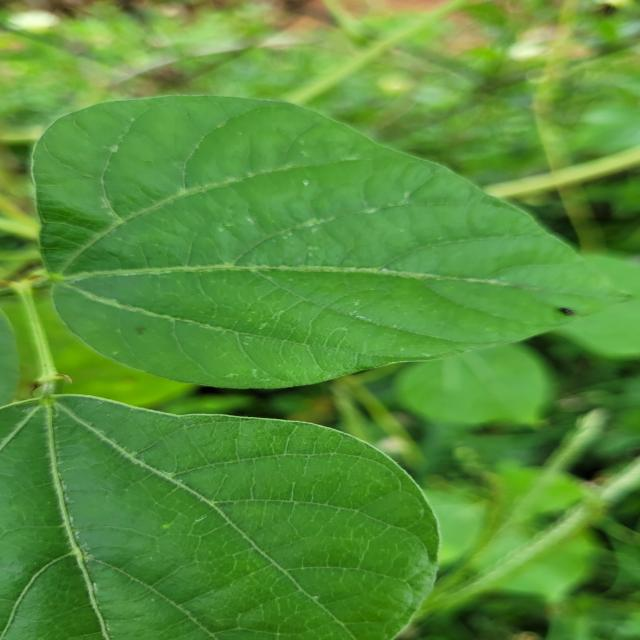Dolicos bean_healthy: (31, 90, 640, 389), (0, 386, 441, 640), (353, 312, 558, 432)
